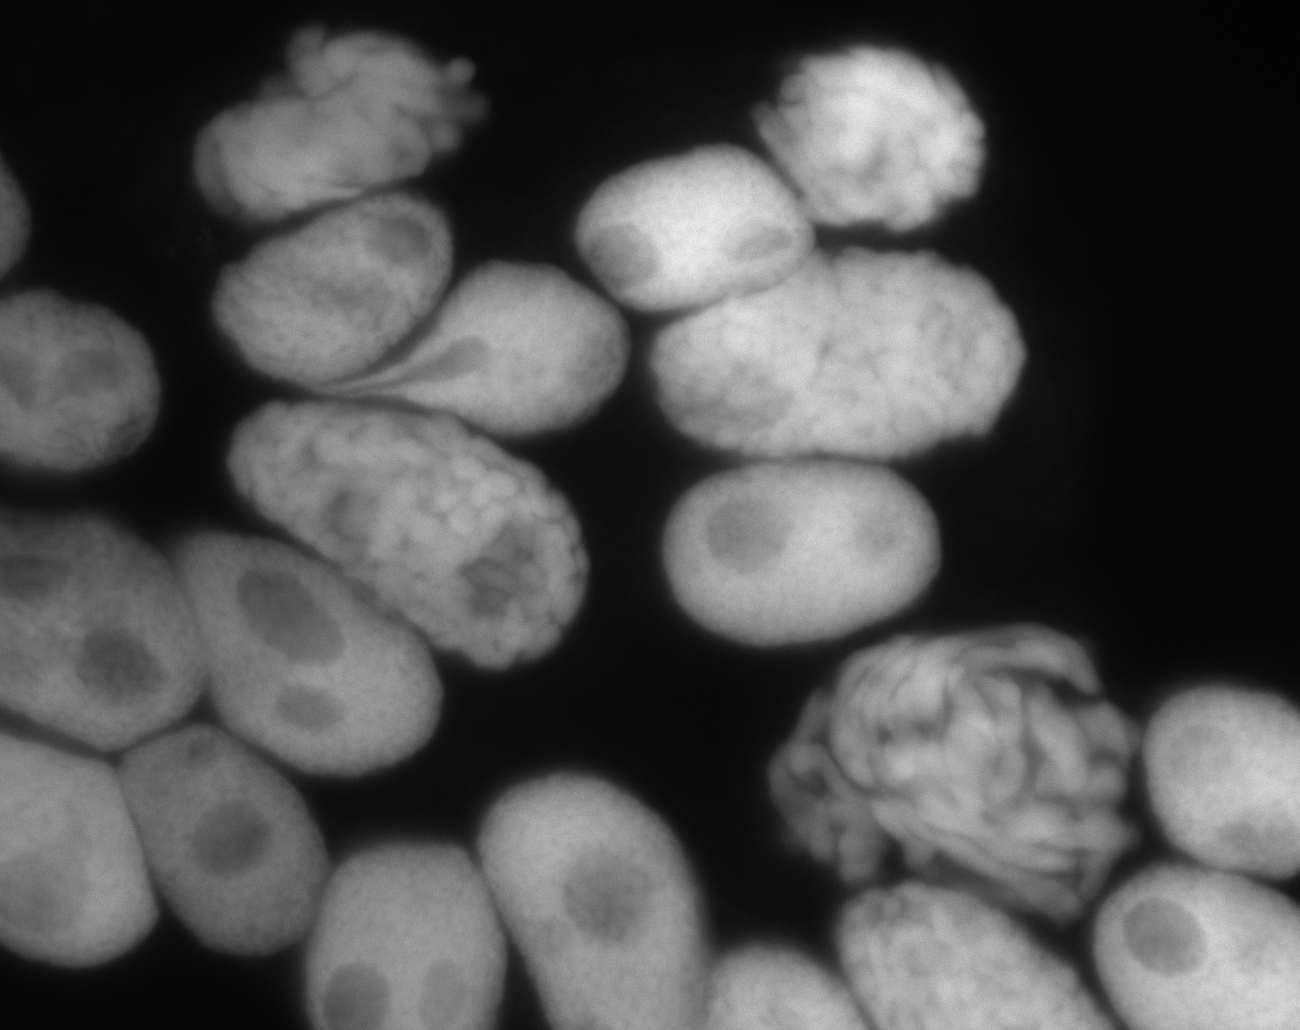Chromosomes: (739, 609, 1160, 907), (164, 460, 550, 735), (250, 388, 597, 670), (159, 1, 542, 242), (647, 235, 1043, 458)
Others: (78, 539, 450, 776), (575, 182, 925, 385), (735, 16, 1018, 253), (652, 465, 979, 662), (453, 772, 700, 1021), (139, 716, 353, 975), (32, 740, 246, 980), (543, 141, 825, 319), (232, 178, 472, 374), (279, 822, 497, 1030), (767, 892, 1096, 1026), (19, 500, 214, 725), (440, 239, 643, 430), (11, 267, 177, 477), (925, 878, 1161, 1015), (1090, 865, 1298, 1021), (1136, 674, 1285, 877)
